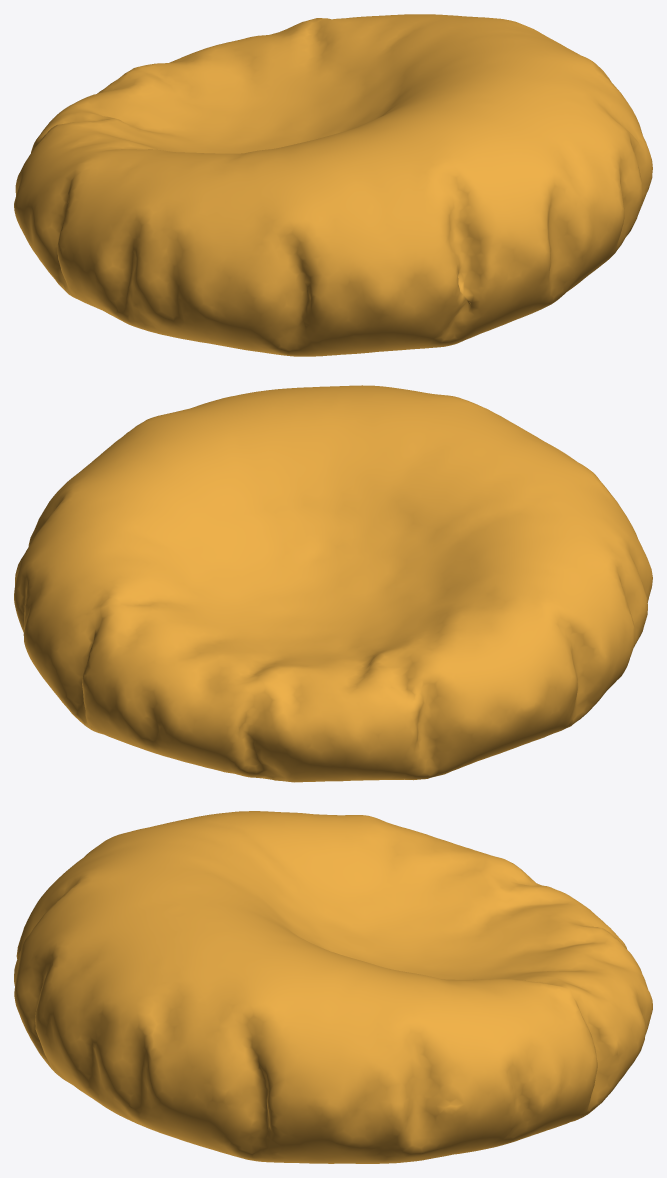
File: bean_bag_-_base_mesh_3.glb
3 views of the same model, one above another, from view 1: azimuth 30°, elevation 25°; view 2: azimuth 150°, elevation 25°; view 3: azimuth 270°, elevation 25° (orthographic).
Visible parts, largest first — view 1: BeanBag3_0; view 2: BeanBag3_0; view 3: BeanBag3_0.
Part boxes in pixels (x1=…): BeanBag3_0: x1=14, y1=14, x2=652, y2=356; BeanBag3_0: x1=14, y1=385, x2=652, y2=782; BeanBag3_0: x1=14, y1=811, x2=652, y2=1163.
Bounding box in the file's own units: 1.55 × 0.5089 × 1.55.
